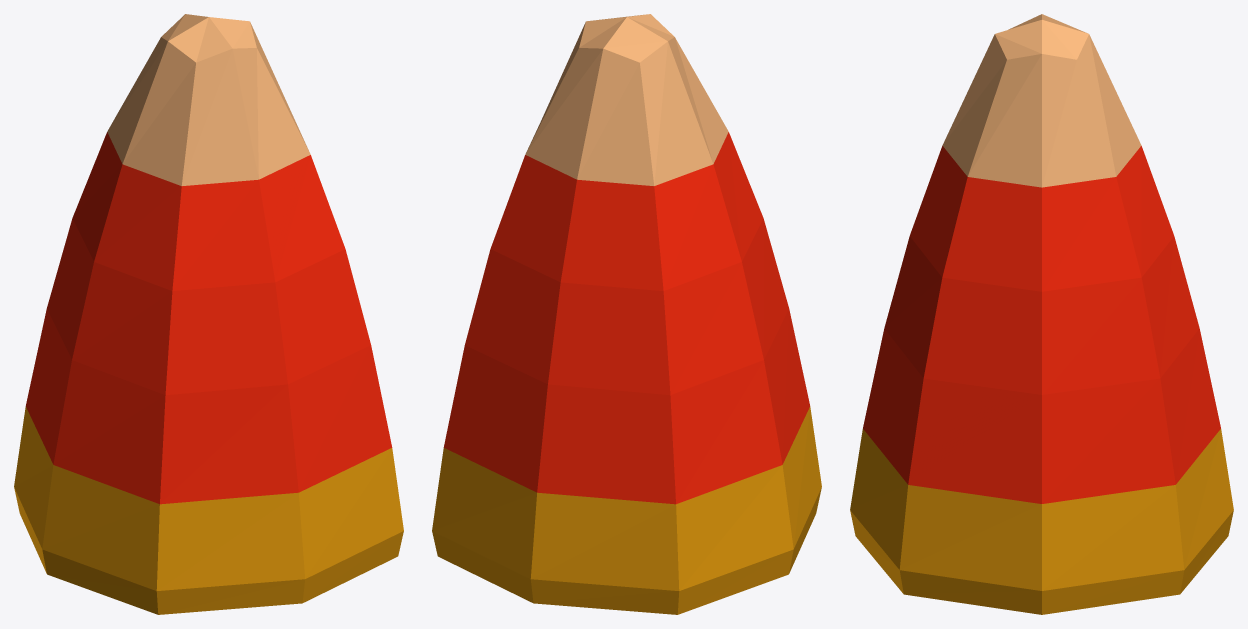
File: candy corn.obj
The picture shows the model from 3 angles, left to right: view 1: azimuth 30°, elevation 25°; view 2: azimuth 150°, elevation 25°; view 3: azimuth 270°, elevation 25°; orthographic projection.
Size of the model in its own units: 1.2 by 1.78 by 1.2.
